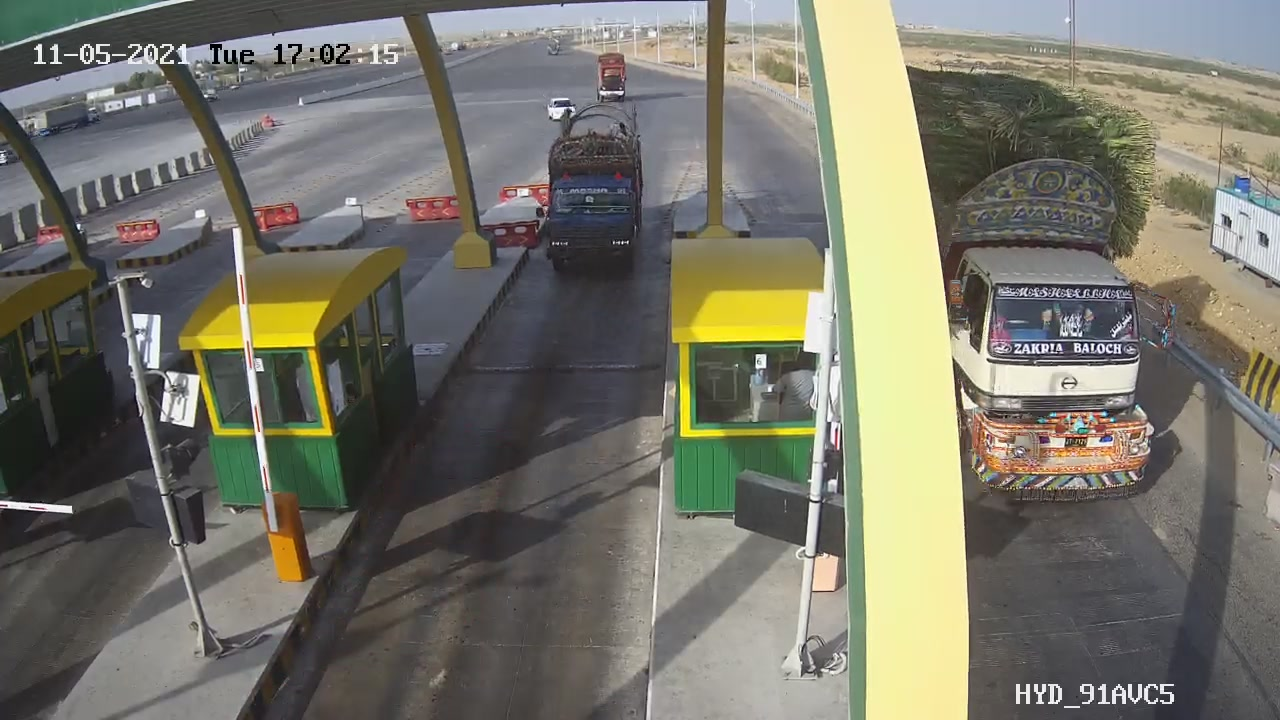F5: (522, 95, 665, 294)
